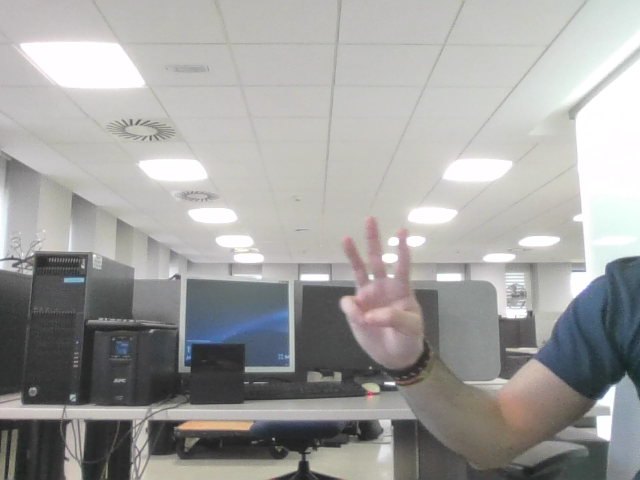3Dedos: (350, 230, 409, 340)
